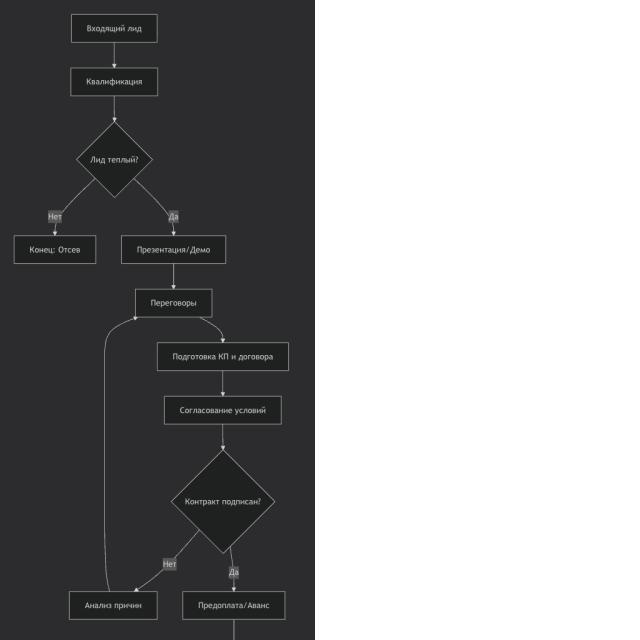arrow: (102, 316, 138, 592), (134, 530, 198, 592), (134, 179, 176, 236), (52, 179, 94, 235), (198, 317, 226, 342), (230, 547, 237, 591), (220, 425, 226, 450), (111, 44, 117, 68), (171, 264, 176, 289), (221, 371, 225, 396), (112, 97, 116, 121)
diamond: (172, 451, 274, 552), (77, 122, 151, 196)
rectangle: (157, 342, 288, 371), (164, 395, 281, 424), (122, 235, 226, 264), (183, 591, 285, 620), (70, 67, 158, 96), (71, 14, 157, 43), (14, 235, 96, 264), (69, 592, 157, 619), (135, 289, 212, 317)
text_region: (48, 210, 62, 224), (163, 558, 177, 571), (168, 209, 180, 223), (229, 566, 239, 579)
